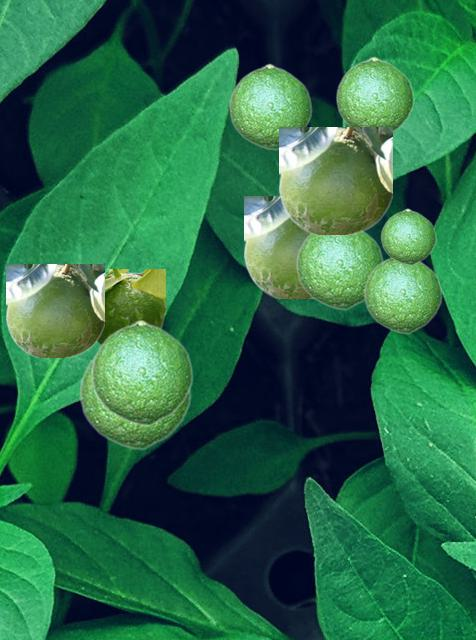dalandan: (279, 127, 391, 233), (90, 319, 192, 425), (78, 357, 190, 449), (6, 264, 103, 356), (228, 63, 311, 149), (295, 231, 383, 309), (244, 196, 309, 297), (335, 56, 413, 132), (363, 257, 441, 333), (97, 269, 164, 344), (380, 208, 435, 264)
